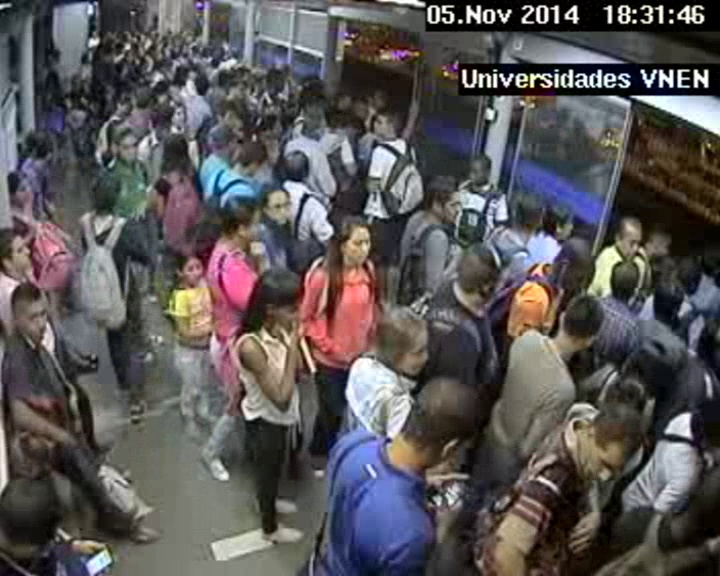person: (404, 376, 484, 467), (1, 475, 74, 560), (374, 305, 433, 376), (252, 266, 310, 336), (584, 416, 643, 482), (6, 283, 62, 345), (670, 469, 720, 530), (457, 240, 505, 302), (558, 294, 605, 351), (630, 336, 672, 388), (222, 196, 266, 245), (334, 215, 375, 267), (1, 228, 45, 276), (606, 373, 649, 418), (556, 241, 595, 290), (428, 175, 466, 225), (90, 171, 130, 213), (512, 191, 548, 236), (259, 183, 295, 227), (613, 217, 646, 258), (109, 125, 144, 163), (160, 135, 197, 170), (650, 285, 685, 322), (672, 258, 705, 293), (545, 203, 575, 240), (176, 250, 206, 286), (609, 260, 638, 296), (5, 170, 37, 201), (284, 151, 313, 183), (240, 142, 267, 175), (375, 108, 400, 139), (302, 113, 327, 143), (469, 155, 494, 185), (150, 102, 176, 129), (209, 127, 233, 154), (302, 94, 327, 119), (263, 112, 285, 140), (651, 230, 672, 258), (330, 110, 351, 134), (700, 250, 720, 275), (29, 134, 50, 157), (173, 105, 191, 128), (193, 75, 211, 97), (133, 89, 152, 108), (218, 104, 236, 124), (335, 89, 352, 108), (371, 89, 388, 108), (355, 96, 372, 115), (156, 58, 173, 75), (43, 72, 60, 89), (93, 65, 109, 83), (231, 120, 247, 138), (116, 99, 133, 115), (120, 76, 136, 92), (69, 73, 84, 90), (175, 65, 190, 82), (100, 31, 115, 46), (301, 74, 316, 89), (44, 52, 57, 69), (216, 71, 230, 86), (146, 43, 160, 57), (210, 46, 223, 61), (267, 71, 280, 86), (79, 52, 92, 65), (229, 46, 242, 59), (128, 42, 140, 55), (154, 80, 166, 93), (280, 64, 292, 77), (178, 43, 189, 56), (255, 66, 266, 79), (236, 67, 246, 80), (115, 31, 125, 42), (149, 26, 159, 36), (200, 47, 210, 57), (127, 29, 136, 40), (172, 33, 181, 43), (88, 27, 97, 36), (183, 22, 192, 31), (191, 46, 200, 55), (163, 35, 171, 45)
